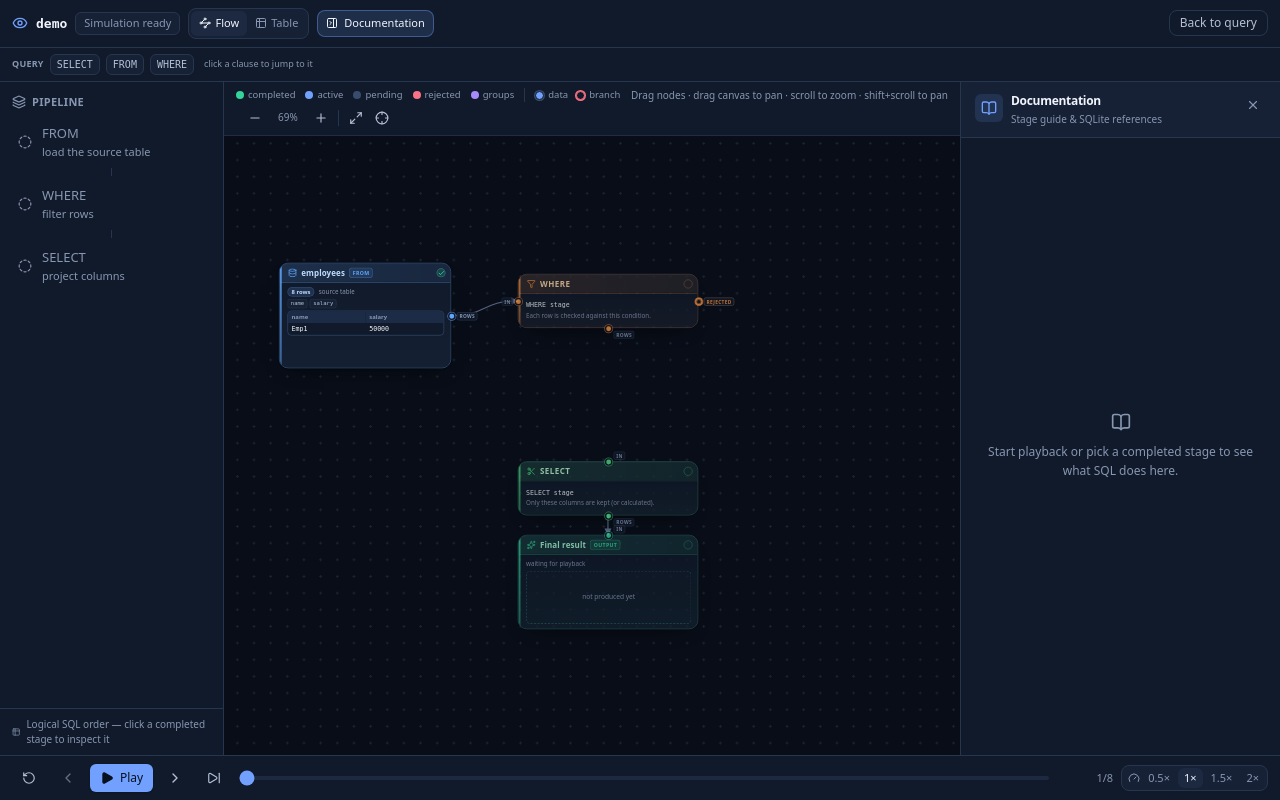
Test case: ready workspace › jump-to-end marks playback finished and enables Replay
Step 1. Click the button named "Jump to final result" → (214, 778), box [197, 764, 231, 792]
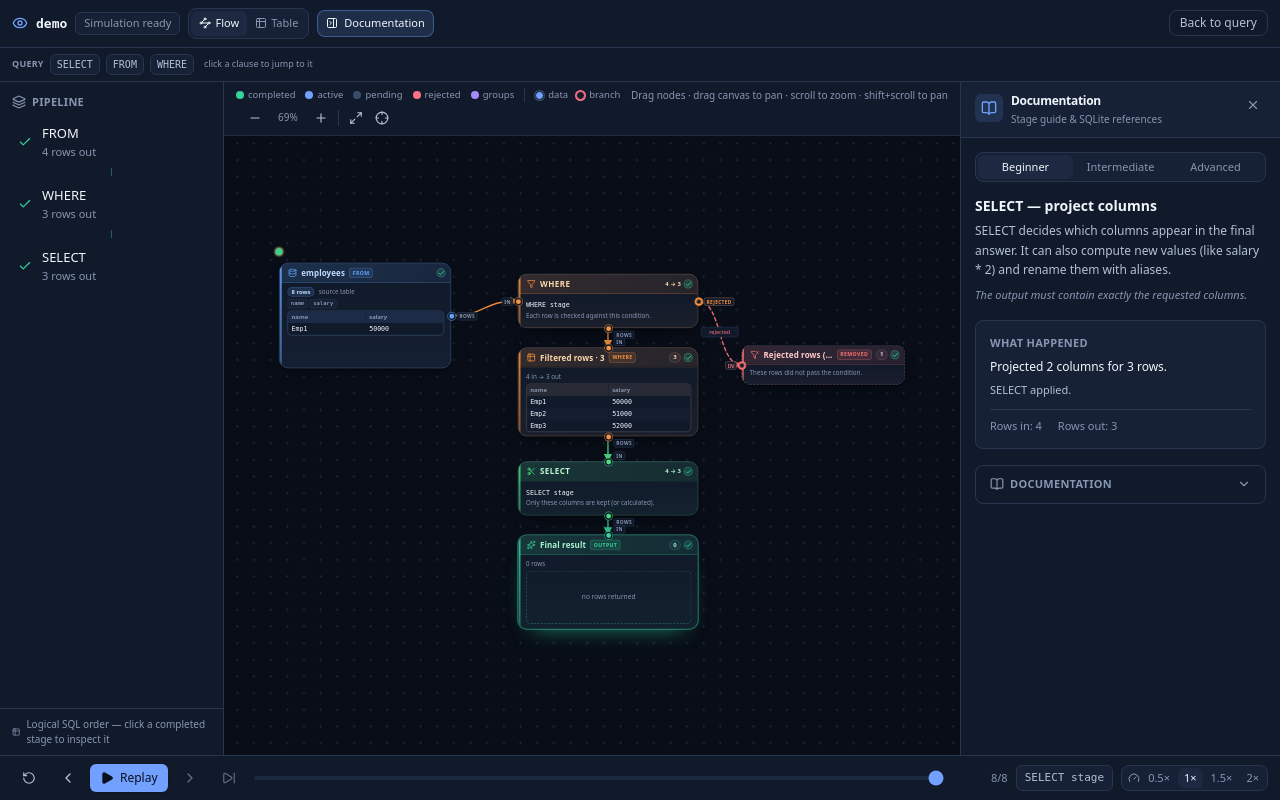
Expected: the button "Replay" is shown, [90, 764, 168, 792]
